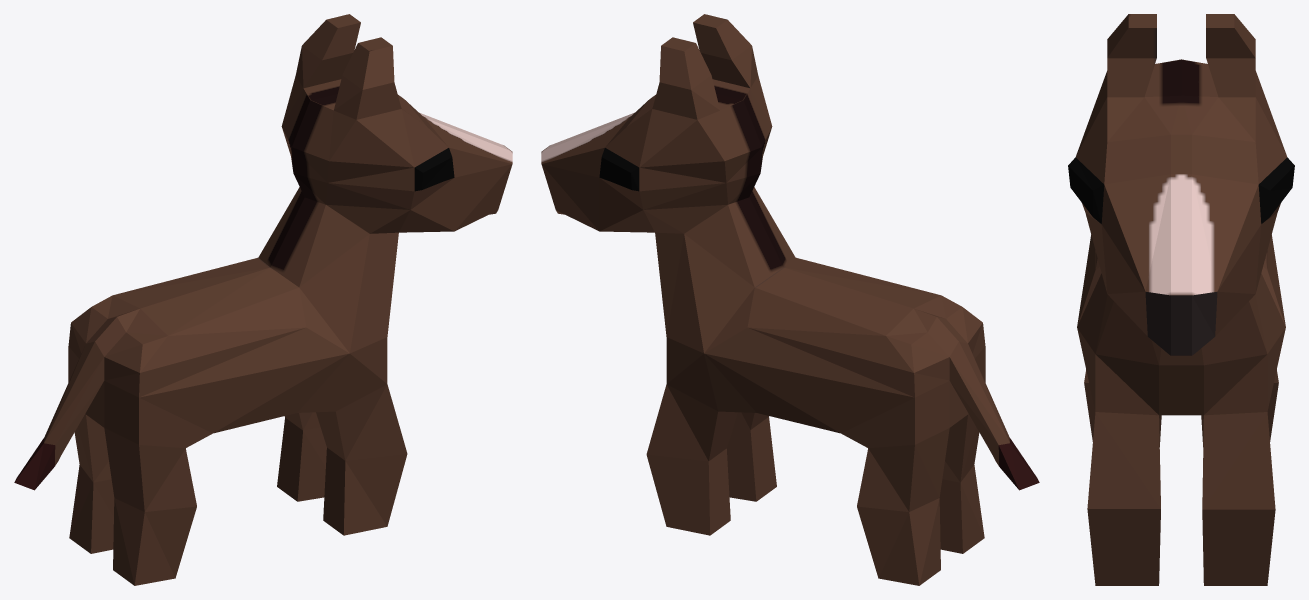
File: horse.obj
3 views of the same model, side by side, from view 1: azimuth 30°, elevation 25°; view 2: azimuth 150°, elevation 25°; view 3: azimuth 270°, elevation 25° (orthographic). The views are drawn at different scales.
Parts seen in each view (by area): view 1: Horse_立方体; view 2: Horse_立方体; view 3: Horse_立方体.
Boxes of the visible parts, box(x1,y1,x2,y2) form: Horse_立方体: box(14, 14, 512, 585); Horse_立方体: box(541, 14, 1039, 585); Horse_立方体: box(1068, 14, 1294, 585).
Bounding box in the file's own units: 4.11 × 3.7 × 1.34.
1 material, 1 textured.
